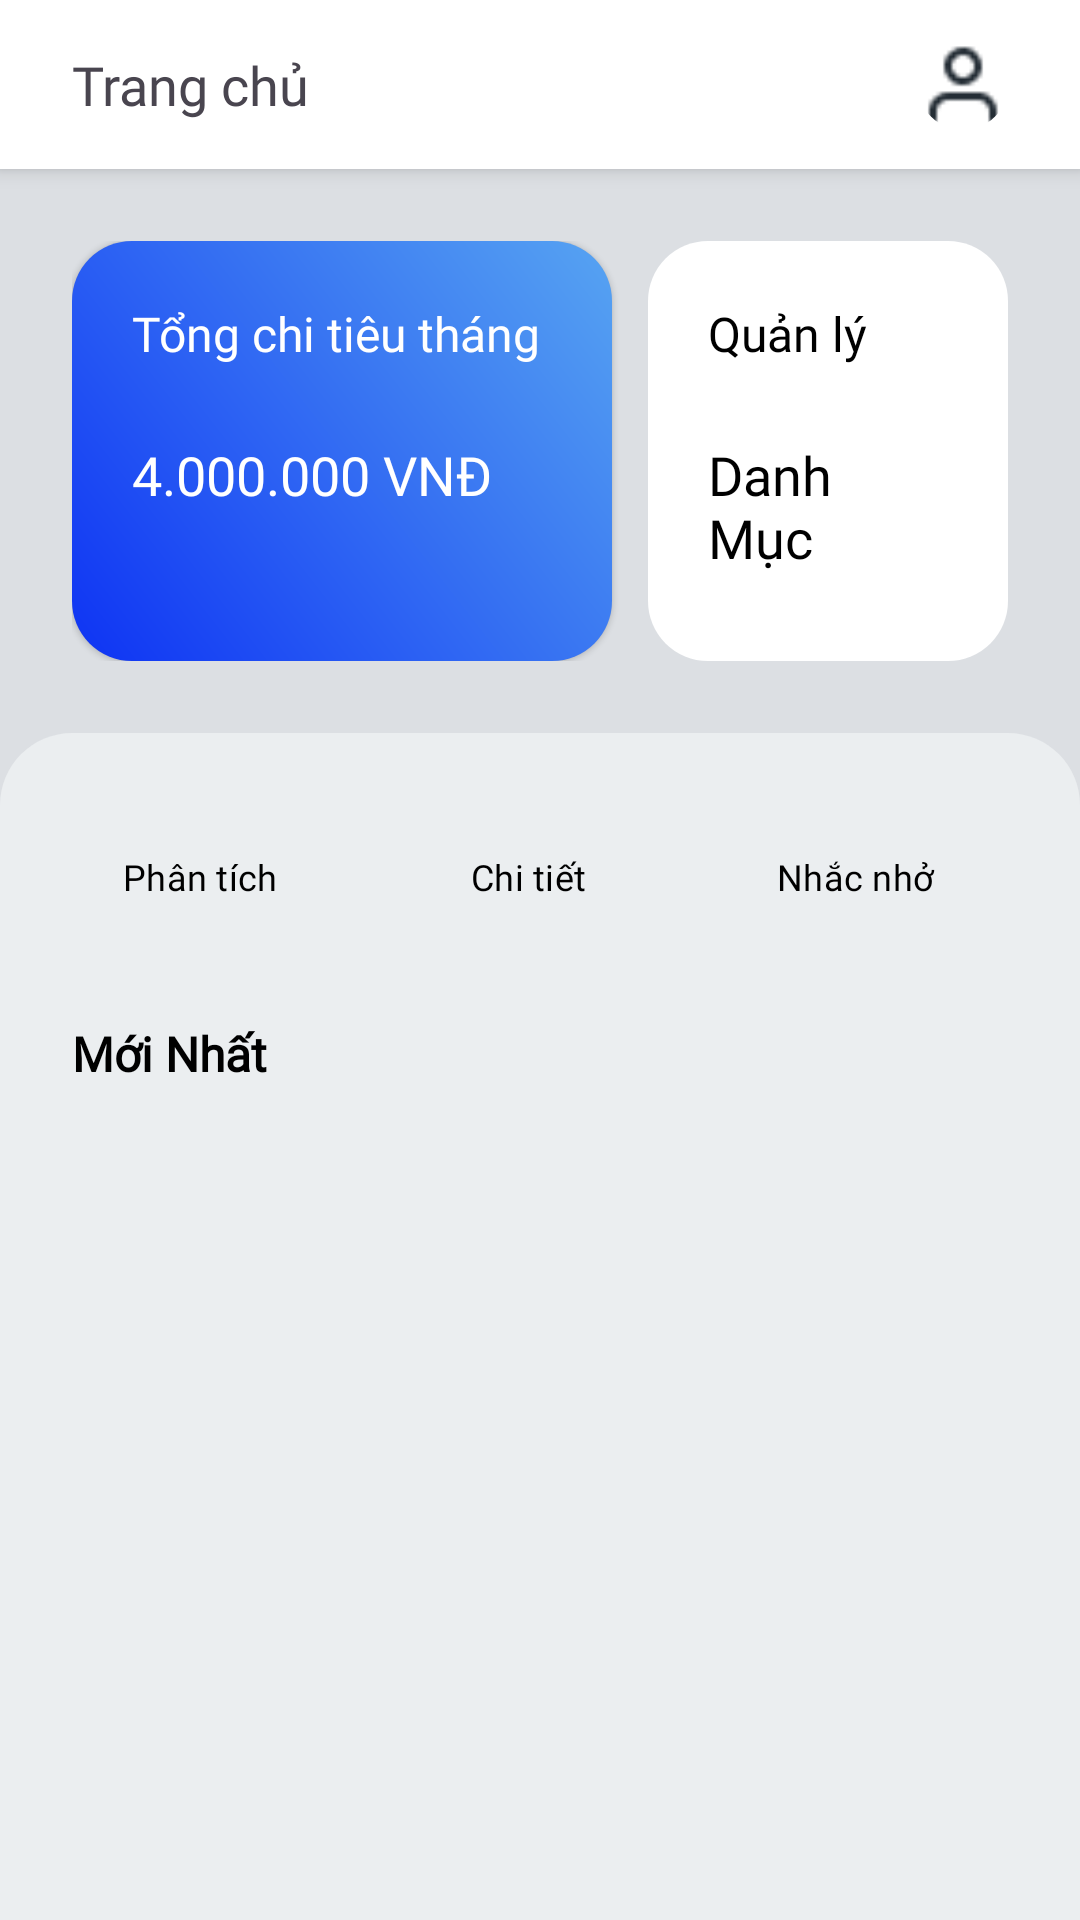

Icon click points for this 1080 x 1920 phone screenshot, format (x=x, y=y):
profile: (x=963, y=84)
